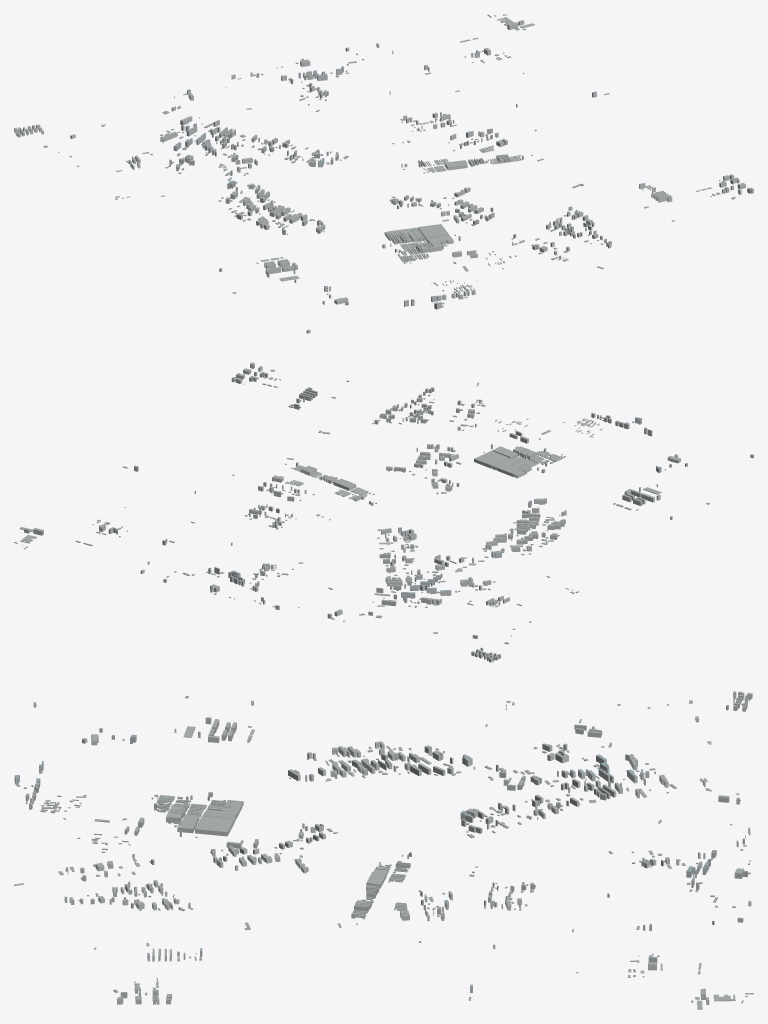
File: far.glb
3 renders of one model, top to bottom at view 1: azimuth 30°, elevation 25°; view 2: azimuth 150°, elevation 25°; view 3: azimuth 270°, elevation 25°, orthographic. The views are drawn at different scales.
Size of the model in its own units: 2123 by 23.5 by 2116.
